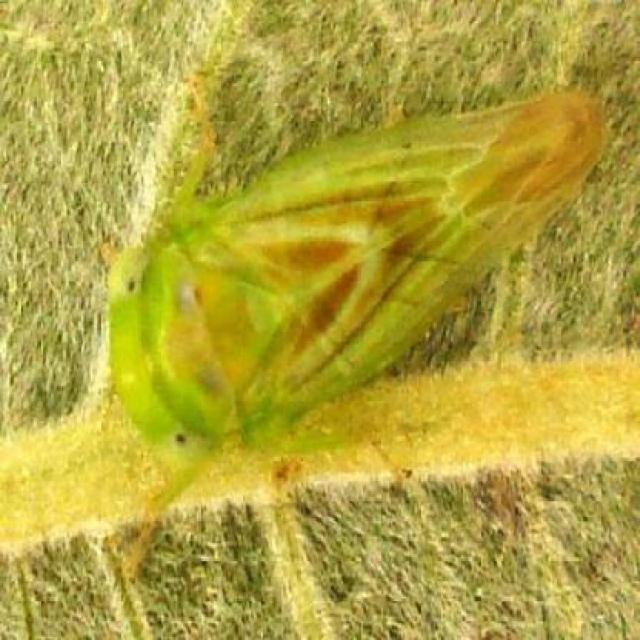green-leafhopper: (109, 51, 619, 580)
